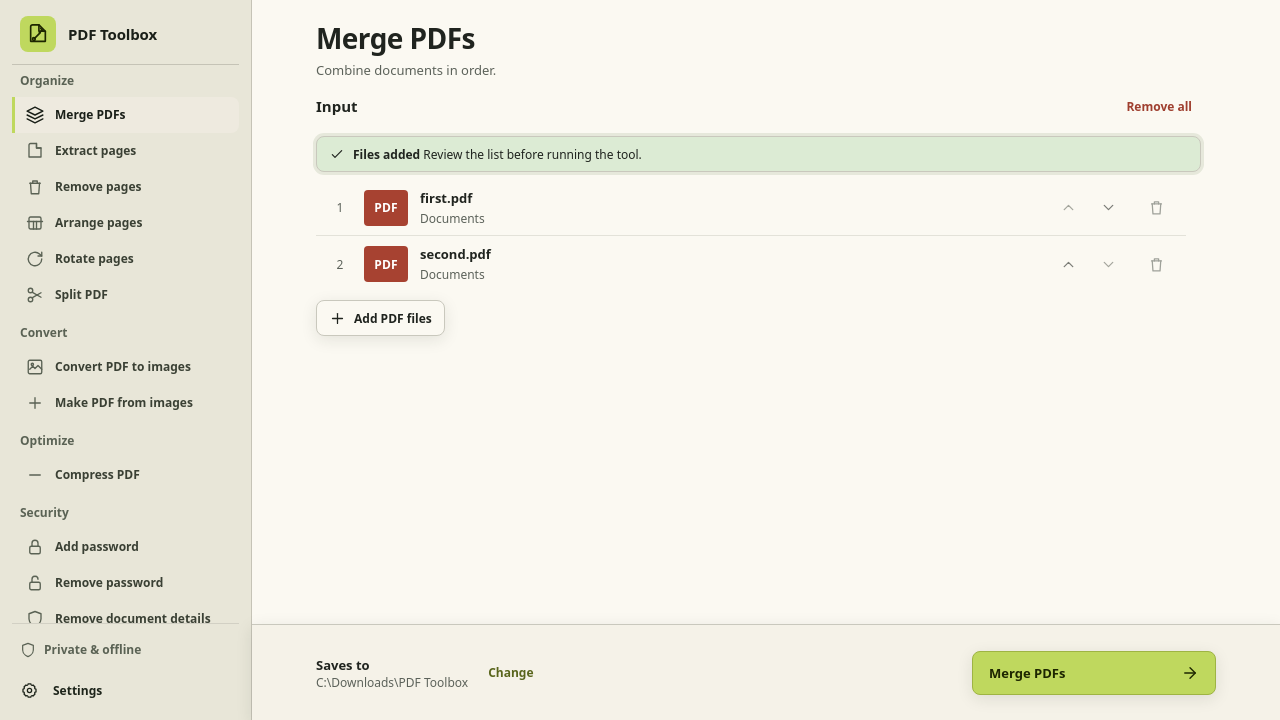
production App presentation wiring › does not let the start response overwrite a faster completed event
Click the button "Merge PDFs" in the row of "C:\\Downloads\\PDF Toolbox": (1094, 672) [972,650,1216,694]
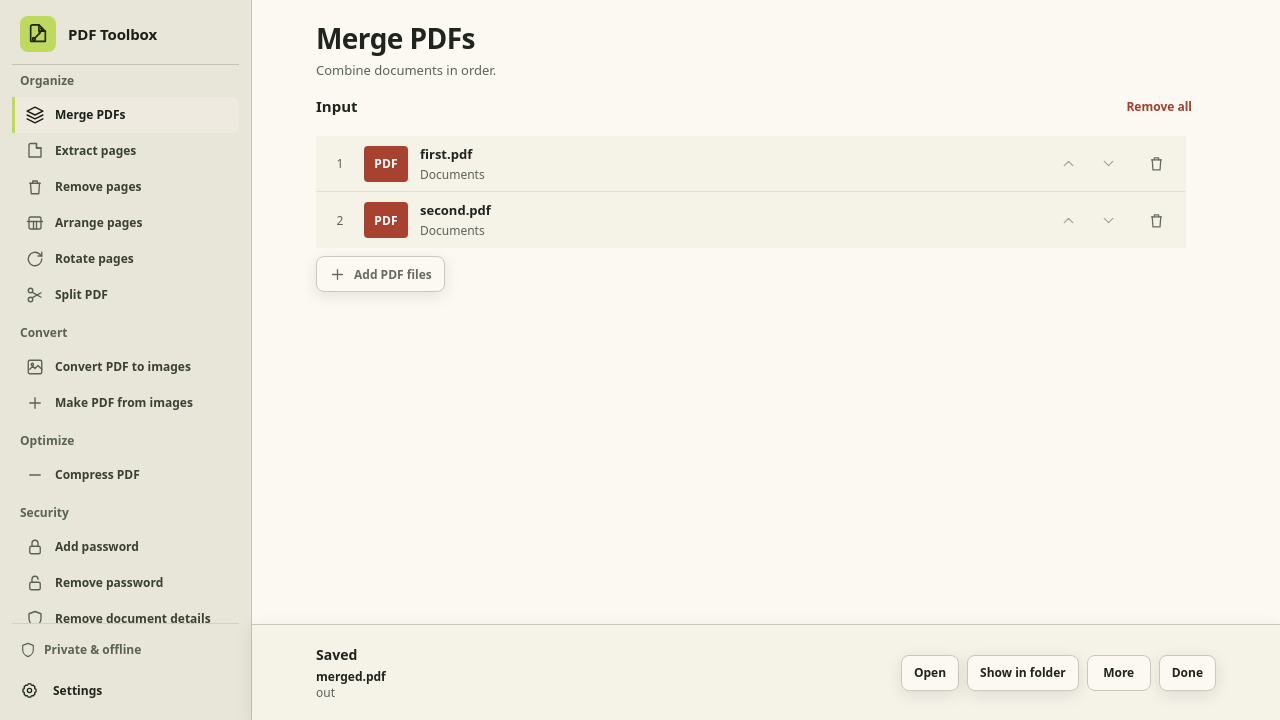
Expected: the text "Saved" is shown, [316,644,357,664]
